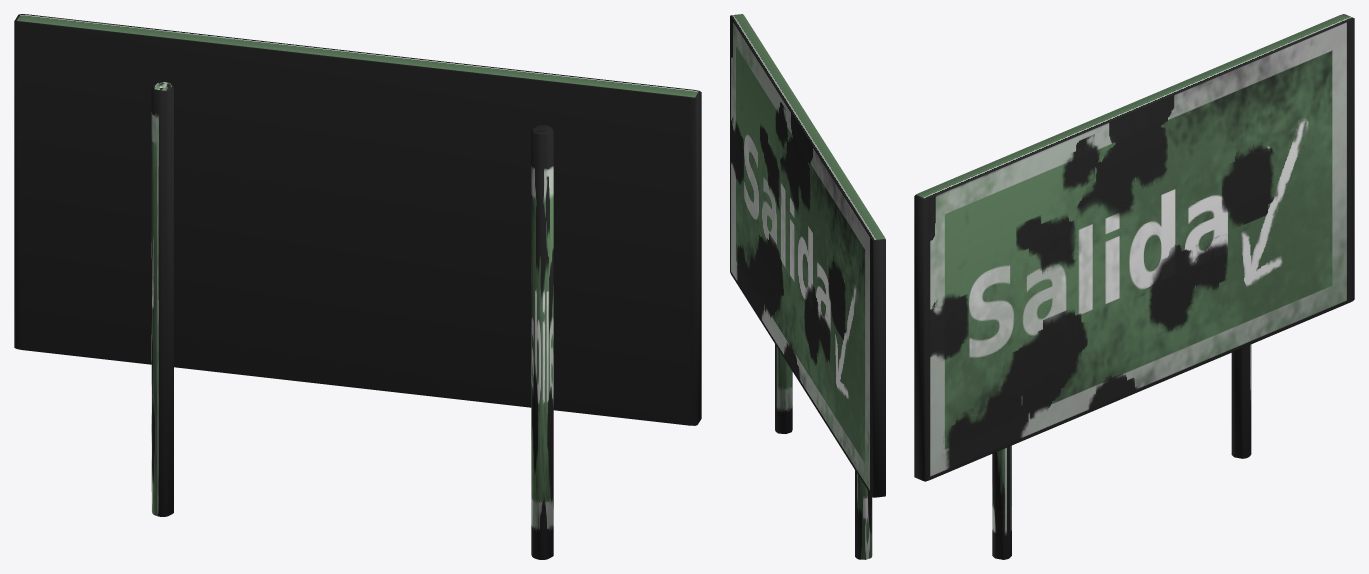
Rendered from cartel.fbx.
3 renders of one model, left to right at view 1: azimuth 30°, elevation 25°; view 2: azimuth 150°, elevation 25°; view 3: azimuth 270°, elevation 25°, orthographic. The views are drawn at different scales.
Parts seen in each view (by area): view 1: Plane.009; view 2: Plane.009; view 3: Plane.009.
Part boxes in pixels (x1=…): Plane.009: x1=14, y1=14, x2=701, y2=559; Plane.009: x1=730, y1=14, x2=885, y2=559; Plane.009: x1=914, y1=14, x2=1354, y2=559.
Size of the model in its own units: 130 by 132 by 130.
